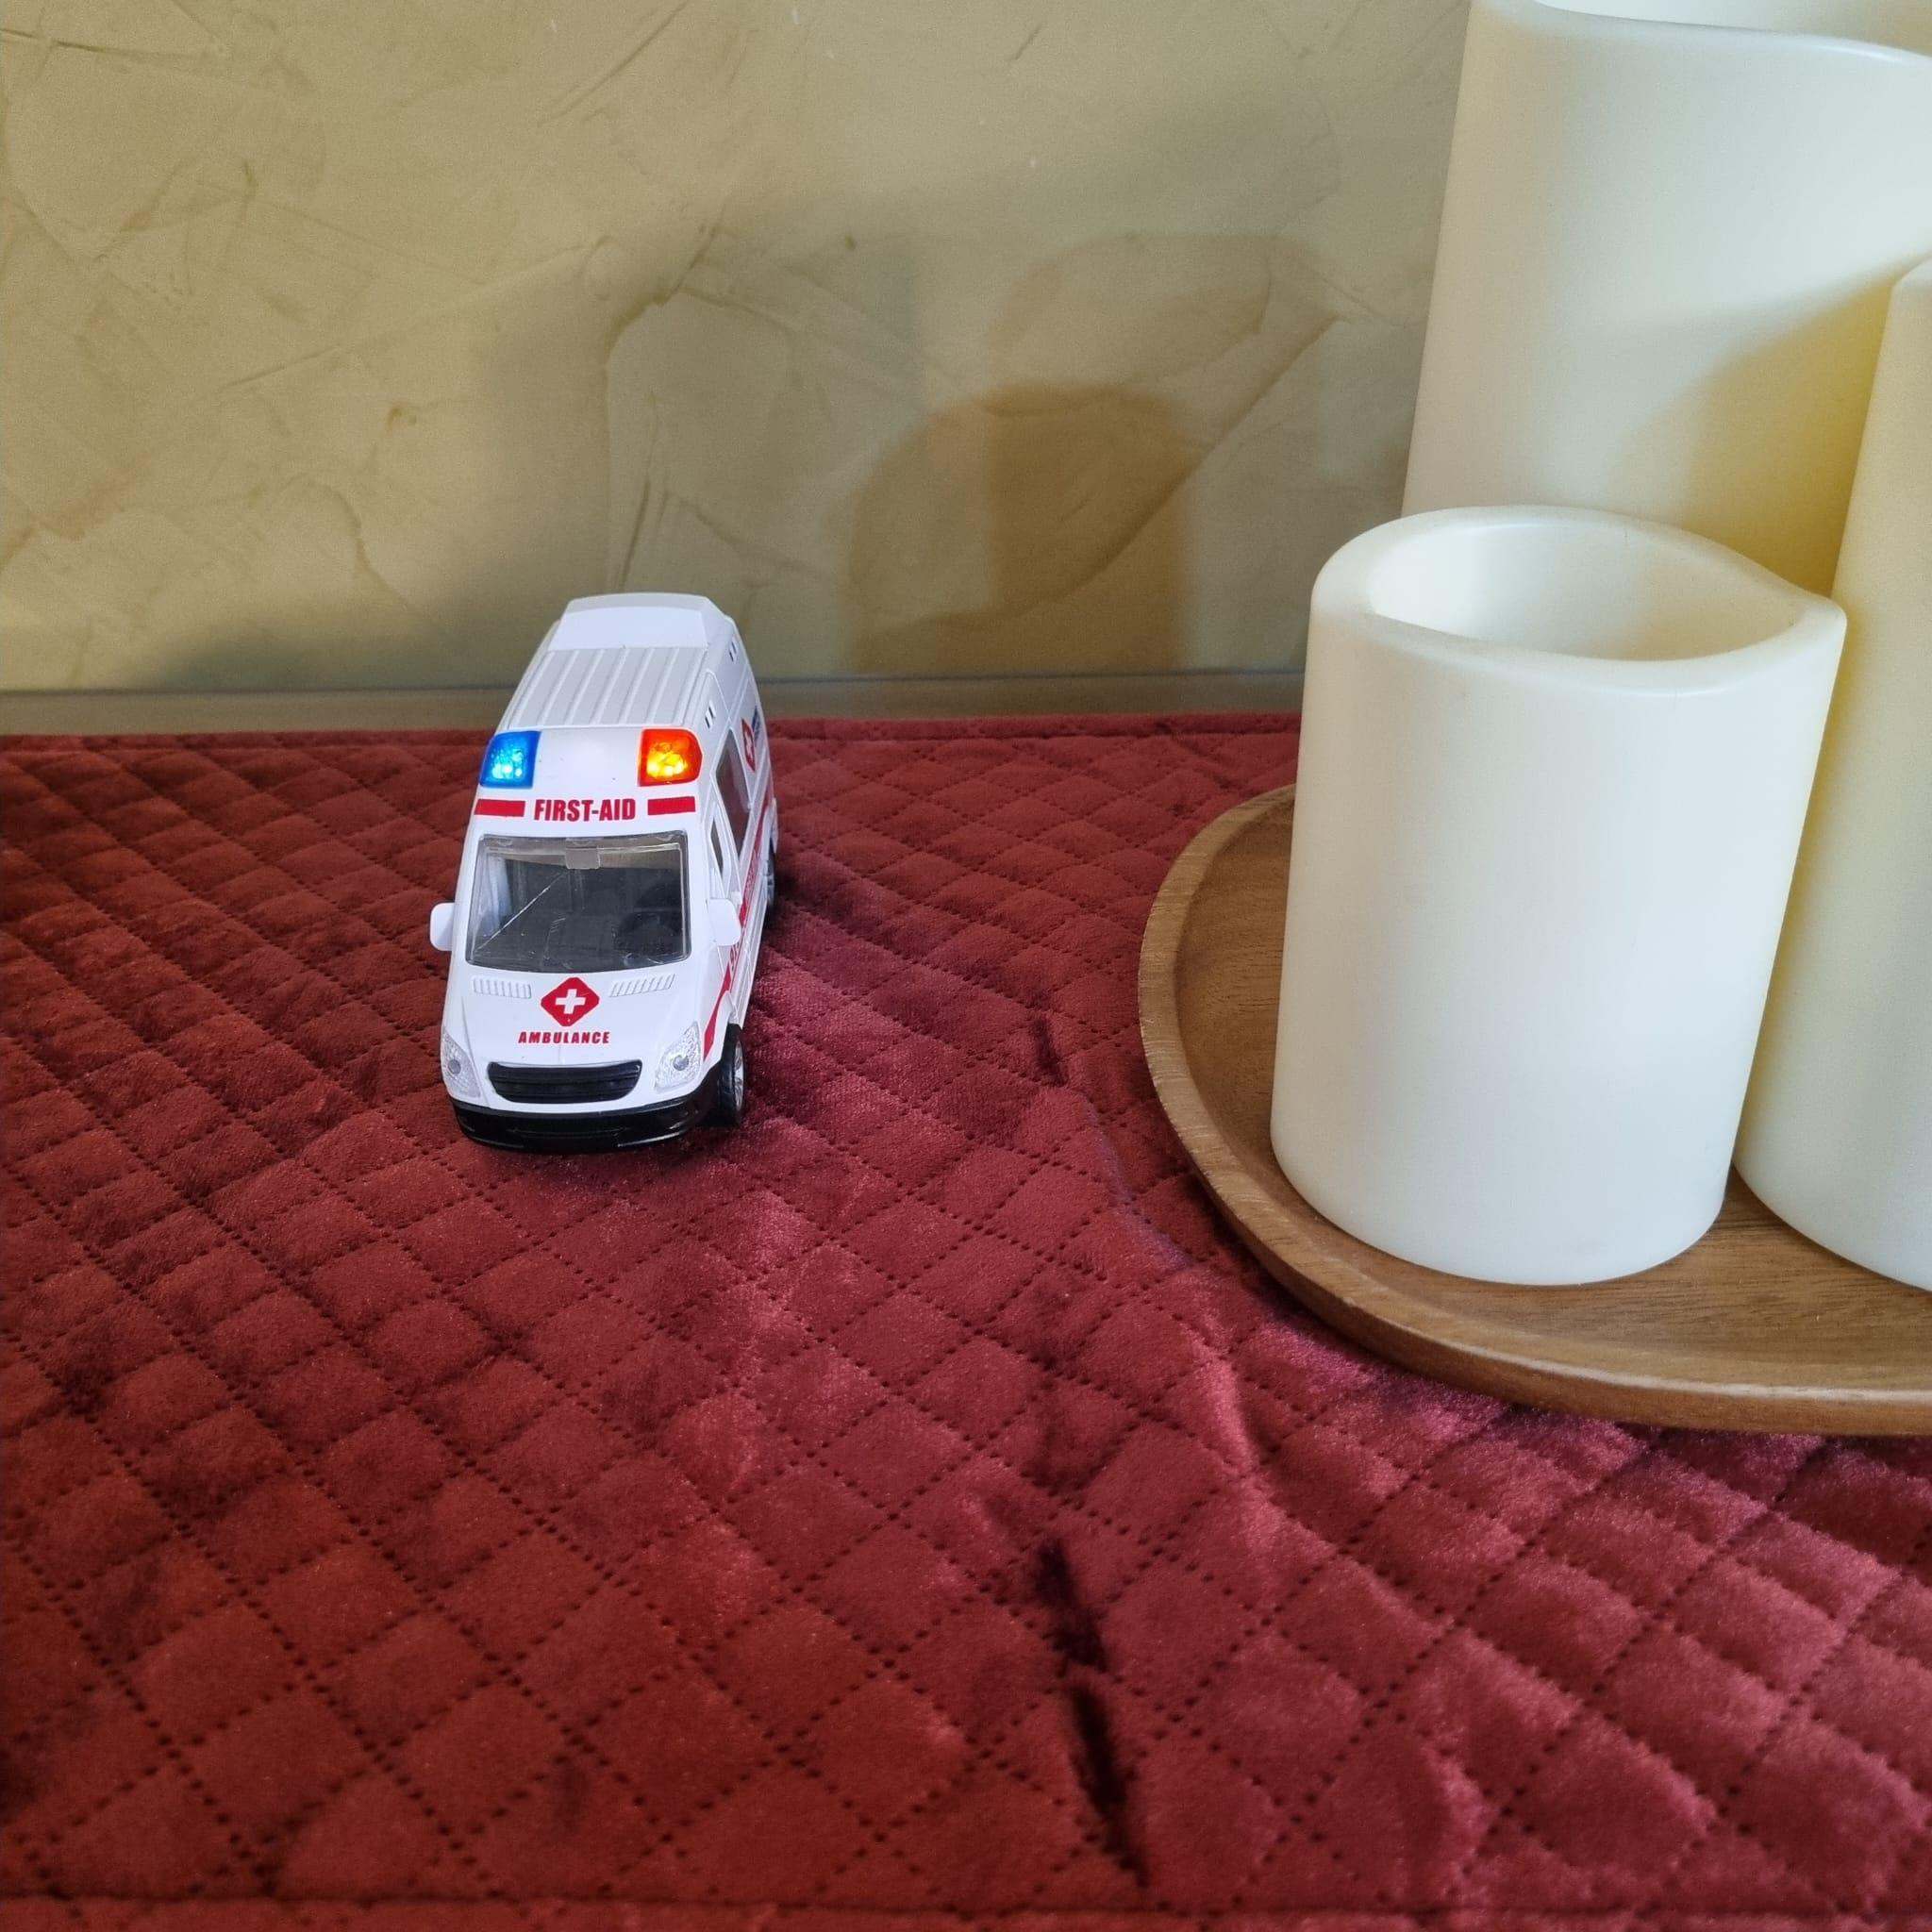ambulance_on: (439, 594, 773, 1154)
